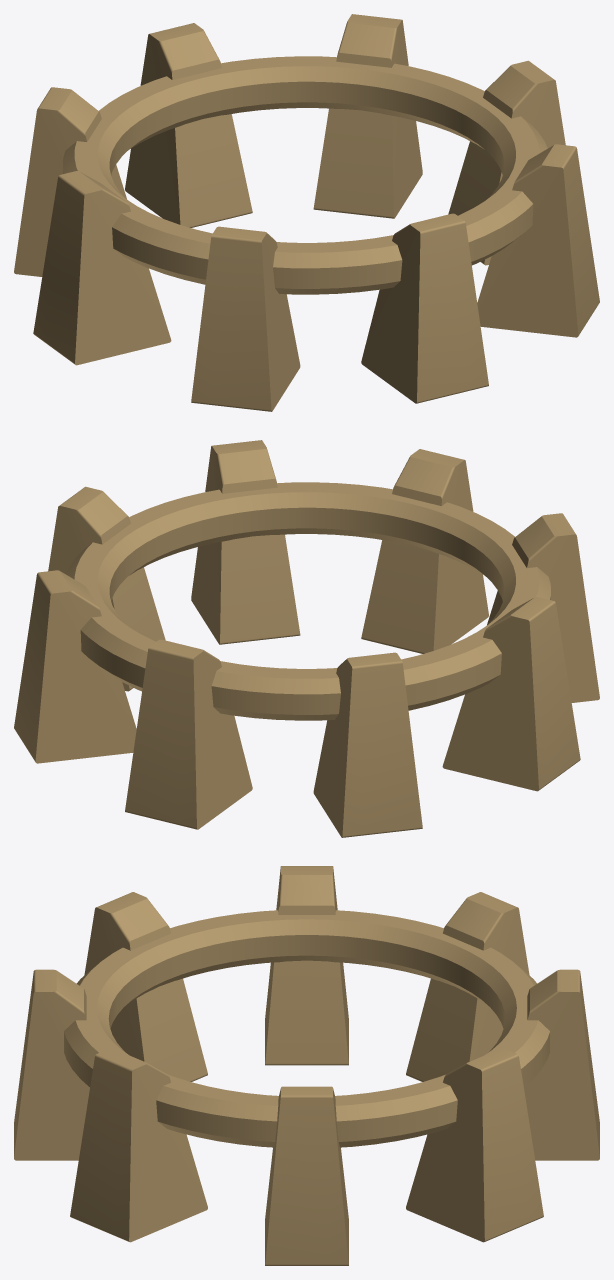
3 renders of one model, top to bottom at view 1: azimuth 30°, elevation 25°; view 2: azimuth 150°, elevation 25°; view 3: azimuth 270°, elevation 25°, orthographic.
Parts seen in each view (by area): view 1: ring, radial_taper.001, radial_taper.003, radial_taper.006, radial_taper.007, radial_taper.002, radial_taper.004, radial_taper.005, radial_taper; view 2: ring, radial_taper.001, radial_taper.002, radial_taper.004, radial_taper.005, radial_taper.003, radial_taper.006, radial_taper.007, radial_taper; view 3: ring, radial_taper.006, radial_taper.004, radial_taper, radial_taper.001, radial_taper.003, radial_taper.002, radial_taper.007, radial_taper.005.
Part boxes in pixels (x1,y1,x2,y2): ring: (63,56,547,294); radial_taper.001: (33,171,171,365); radial_taper.003: (361,213,488,403); radial_taper.006: (477,144,599,337); radial_taper.007: (191,226,300,411); radial_taper.002: (125,23,252,227); radial_taper.004: (313,14,422,218); radial_taper.005: (14,87,126,276); radial_taper: (448,60,565,265); ring: (66,482,550,720); radial_taper.001: (442,597,580,791); radial_taper.002: (125,639,252,829); radial_taper.004: (14,570,136,763); radial_taper.005: (313,652,422,837); radial_taper.003: (361,449,488,653); radial_taper.006: (191,440,300,644); radial_taper.007: (487,513,599,702); radial_taper: (48,486,165,691); ring: (64,910,549,1147); radial_taper.006: (70,1048,207,1242); radial_taper.004: (406,1048,543,1242); radial_taper: (265,1086,348,1265); radial_taper.001: (265,866,348,1065); radial_taper.003: (14,969,89,1160); radial_taper.002: (524,969,599,1160); radial_taper.007: (84,892,207,1081); radial_taper.005: (406,892,529,1081).
Bounding box in the file's own units: 0.999 × 0.3048 × 0.999.
